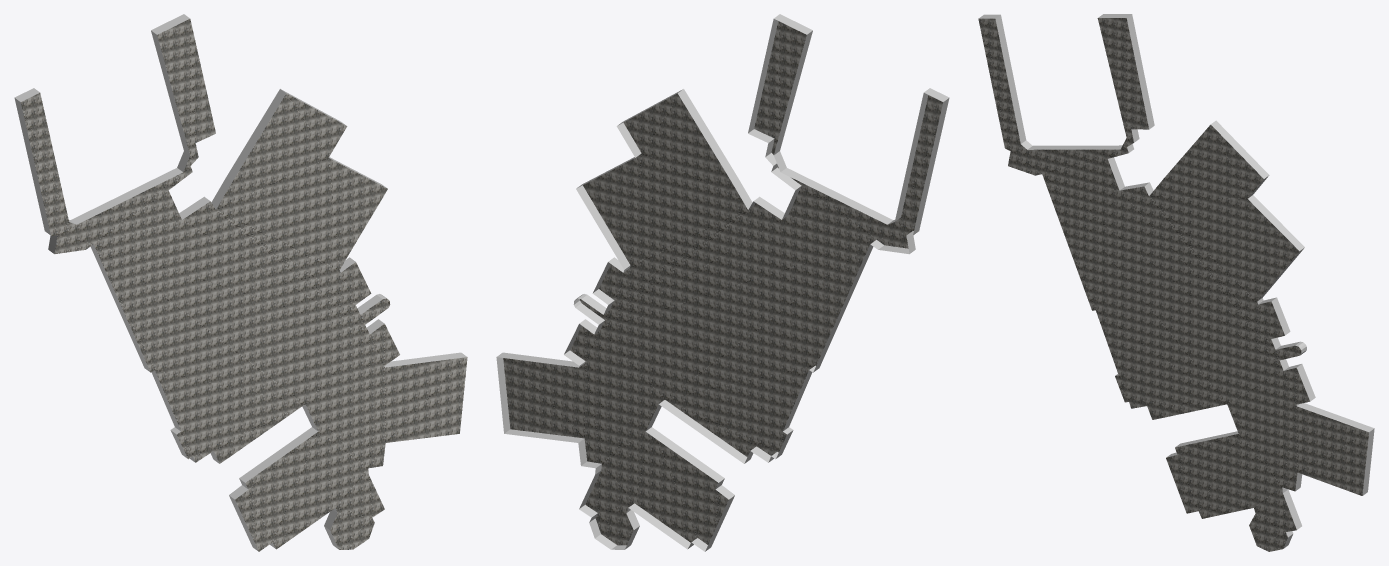
Rendered from geospecific_257.obj.
3 views of the same model, side by side, from view 1: azimuth 30°, elevation 25°; view 2: azimuth 150°, elevation 25°; view 3: azimuth 330°, elevation 25° (orthographic). The views are drawn at different scales.
Visible parts, largest first — view 1: Building; view 2: Building; view 3: Building.
Part boxes in pixels (left/top/right/bottom): Building: left=14, top=14, right=467, bottom=551; Building: left=496, top=14, right=949, bottom=551; Building: left=978, top=14, right=1374, bottom=551.
Bounding box in the file's own units: 123 × 150 × 3.
